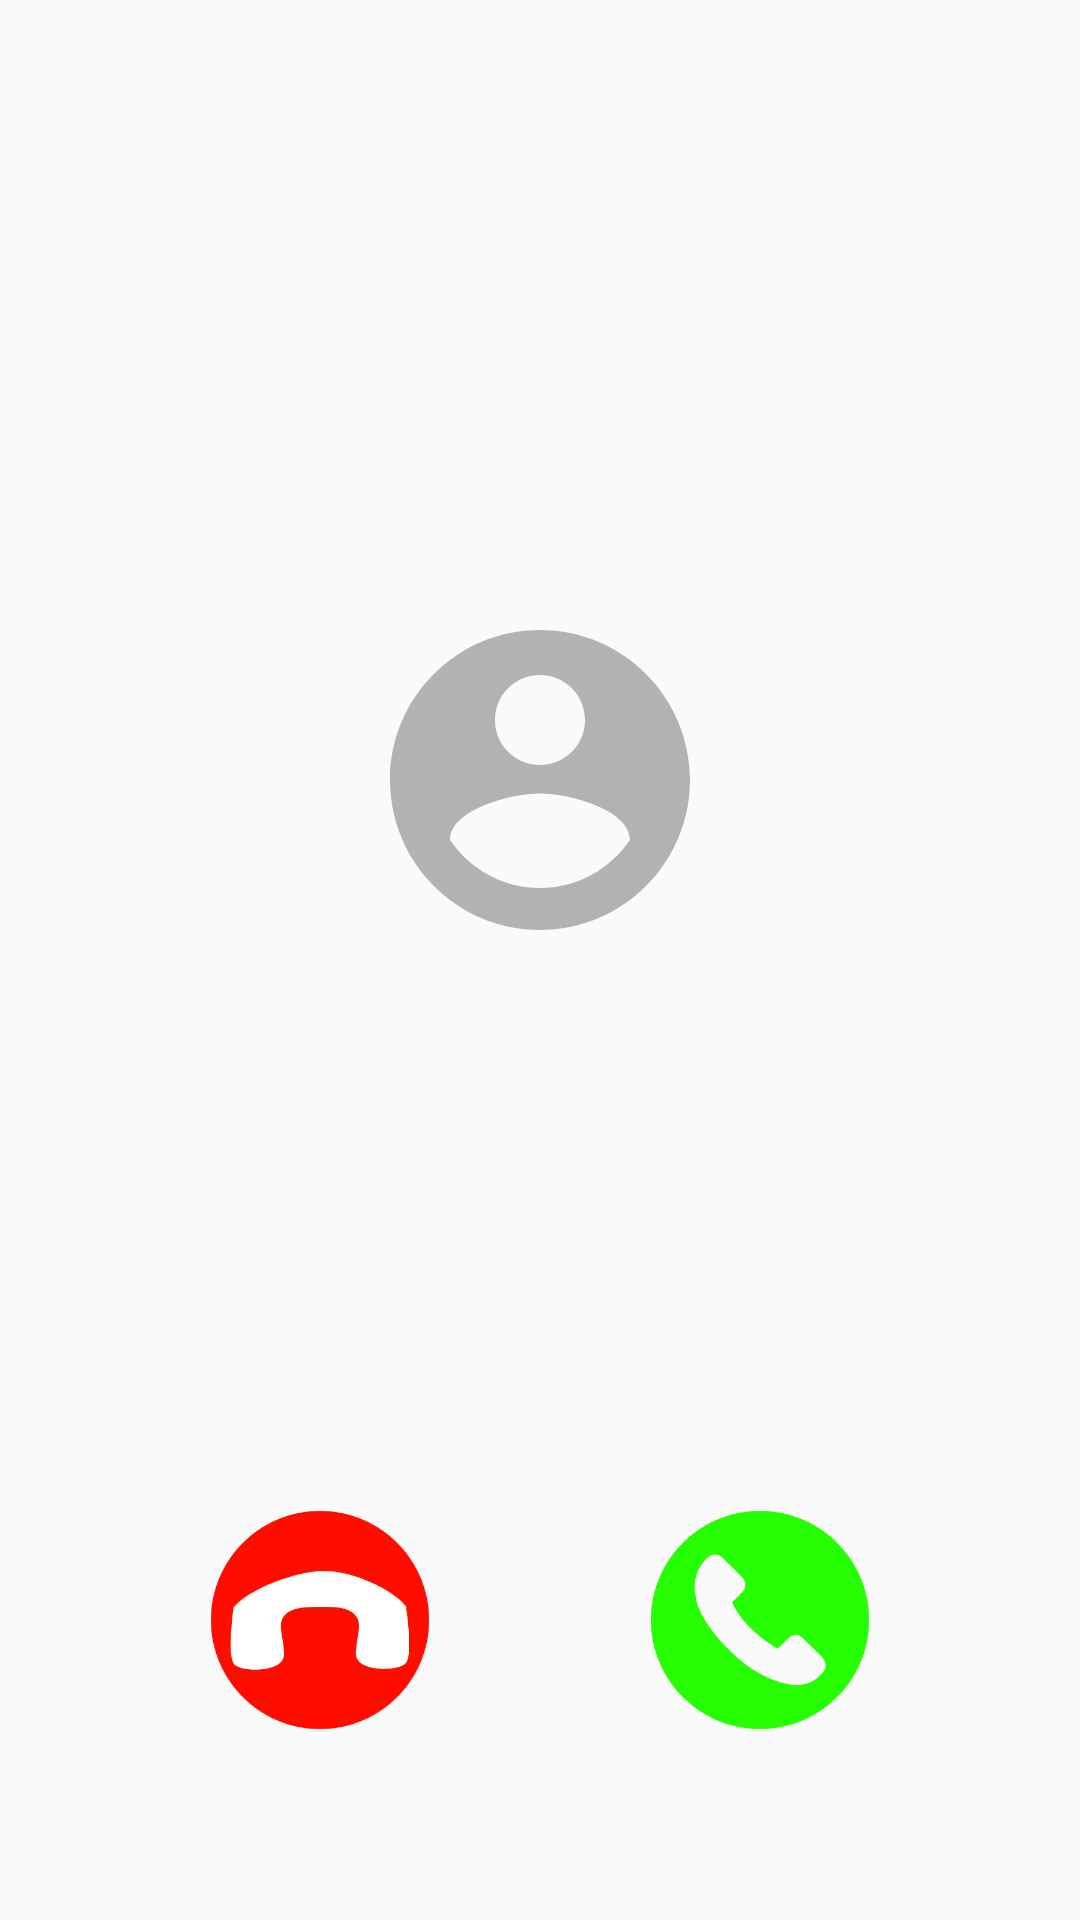

Point at icon controls on the screen. Image size 1080px x 1920px, points as point (x, y).
account circle: point (540, 780)
call: point (760, 1620)
end call: point (320, 1620)
